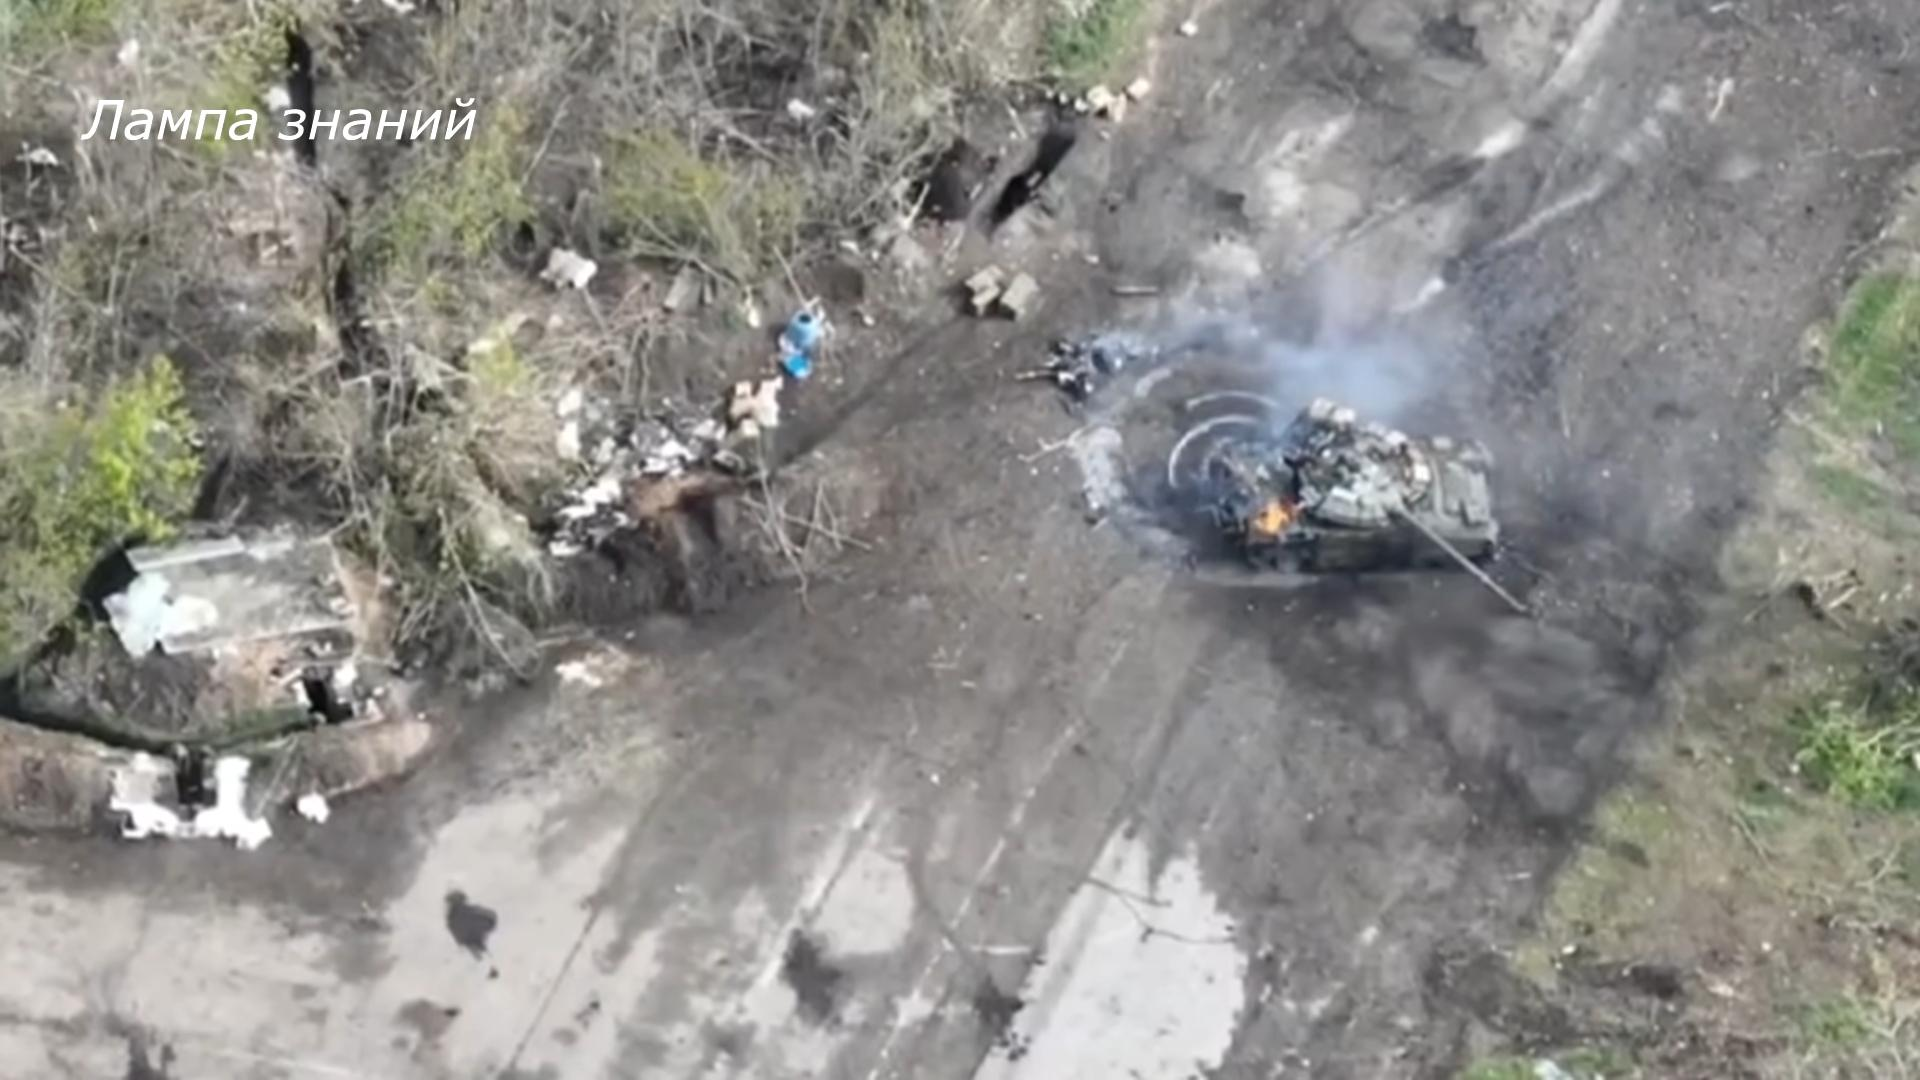tank: (1195, 400, 1530, 611)
